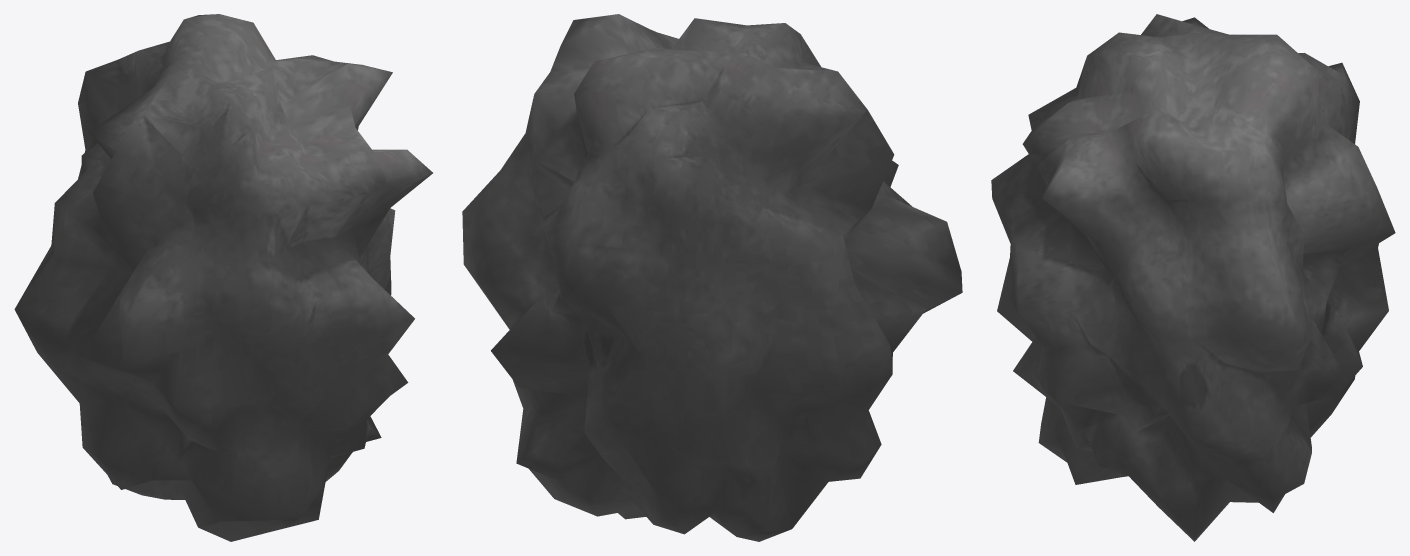
File: asteroid2.glb
3 views of the same model, side by side, from view 1: azimuth 30°, elevation 25°; view 2: azimuth 150°, elevation 25°; view 3: azimuth 270°, elevation 25° (orthographic). The views are drawn at different scales.
Parts seen in each view (by area): view 1: 立方体.003; view 2: 立方体.003; view 3: 立方体.003.
Part boxes in pixels (<box>): 立方体.003: <box>14,14,432,541</box>; 立方体.003: <box>462,14,962,541</box>; 立方体.003: <box>991,14,1395,541</box>.
Size of the model in its own units: 49.8 by 60.09 by 46.88.
1 material, 1 textured.
